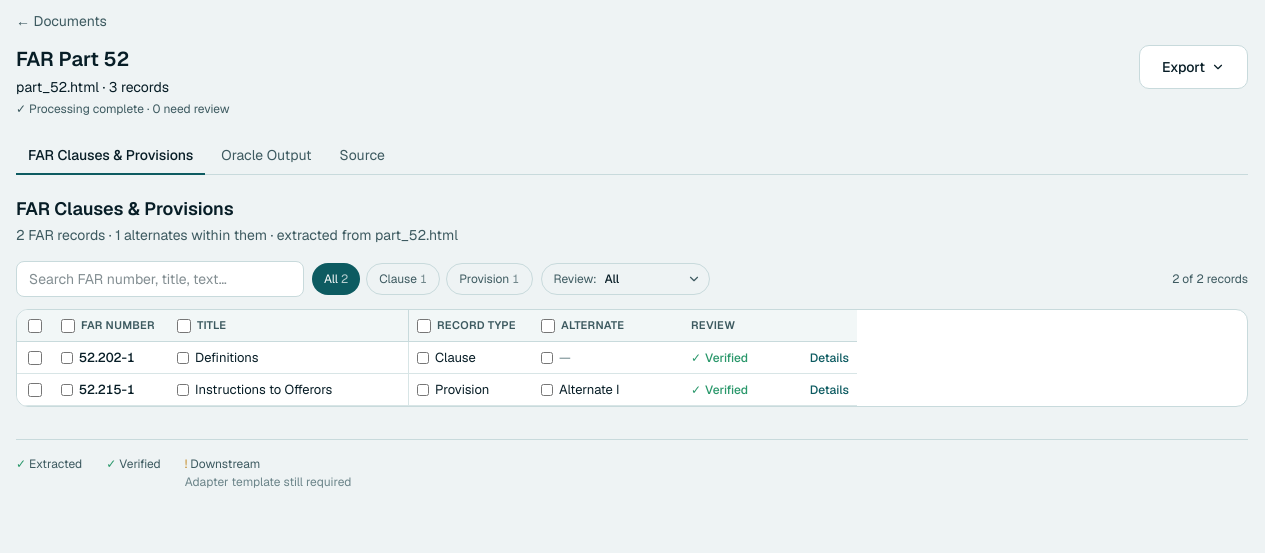
Test: DocumentWorkspace with a profile-declared presentation › Export menu: Export All as before; Export Selected disabled until something is selected
The width and height of the screenshot is (1265, 553).
Click the button "Export" at (1193, 67), box [1139,45,1248,89]
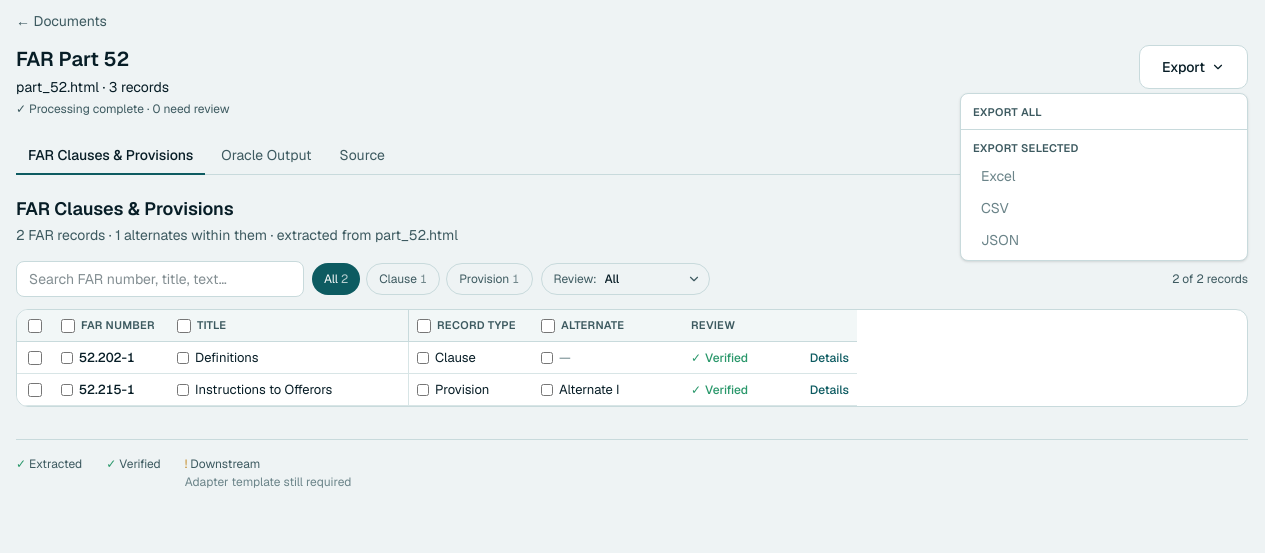
Check: the text "Export All" is shown, box [973,105,1042,119]
Check: the menu item "Excel" is disabled, box [961,160,1247,192]
Check: the menu item "CSV" is disabled, box [961,192,1247,224]
Click the button "Export" at (1193, 67), box [1139,45,1248,89]
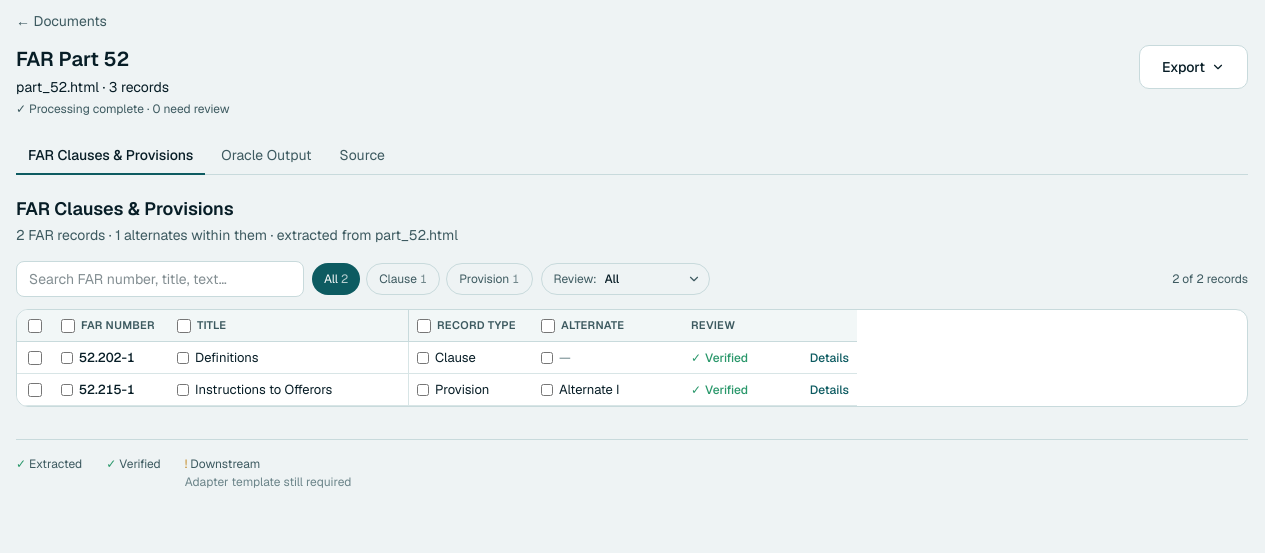
Click the checkbox named "Select record 52.202-1" at (35, 358), box [28,351,42,365]
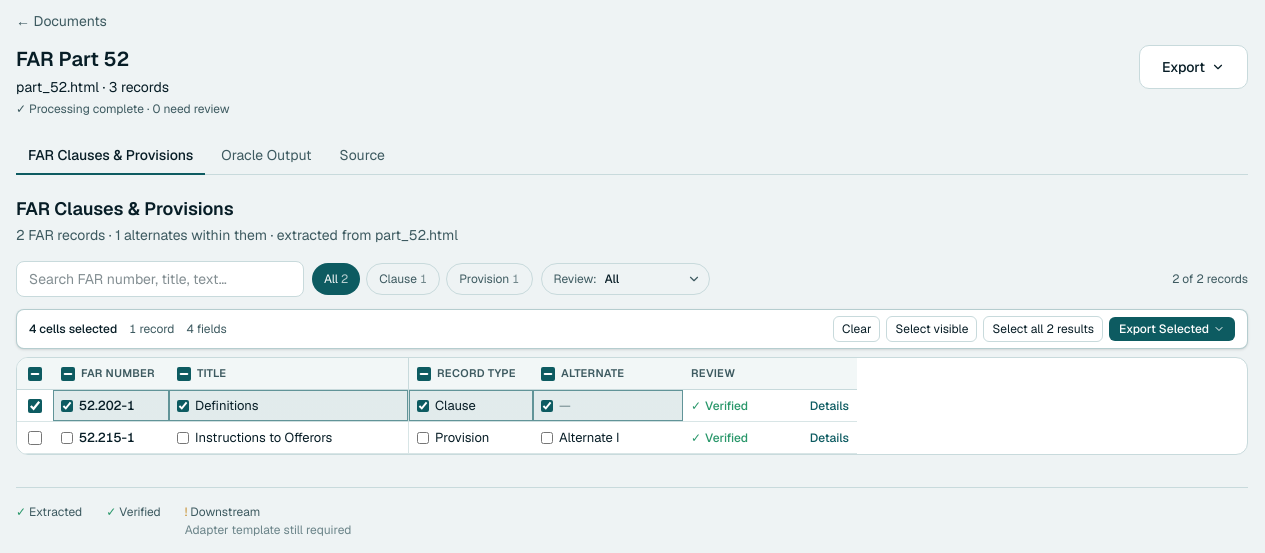
Click the button "Export" at (1193, 67), box [1139,45,1248,89]
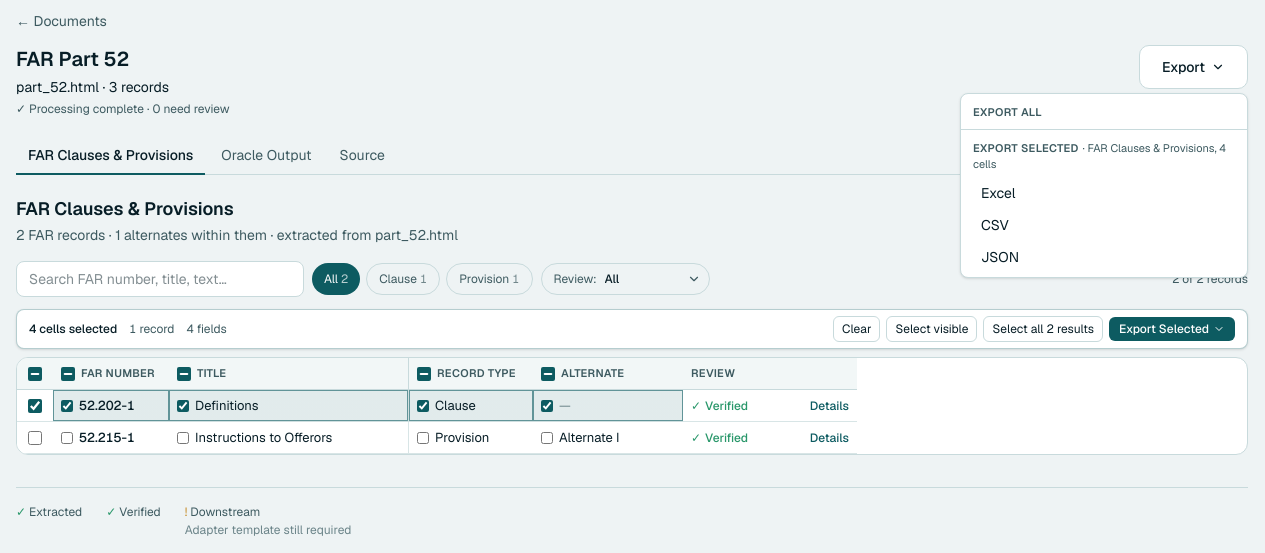
Check: the text "· FAR Clauses & Provisions, 4 cells" is shown, box [973,140,1226,171]
Check: the menu item "Excel" is enabled, box [961,176,1247,208]
